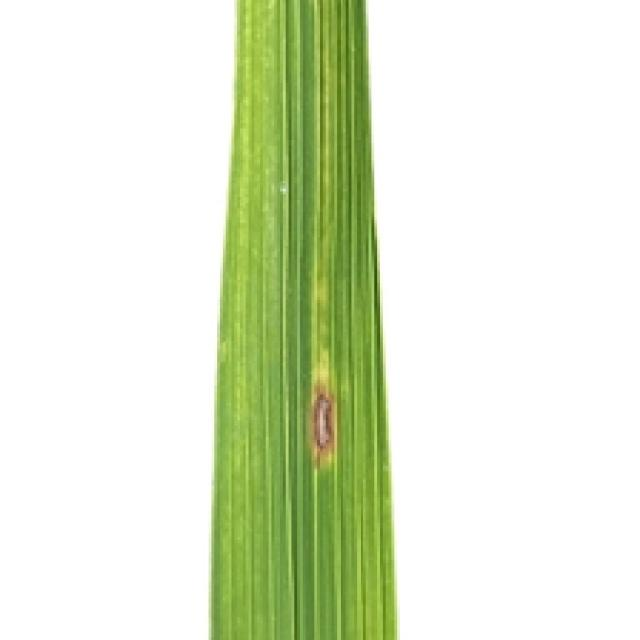Rice___Rice_Blast: (214, 0, 399, 637)
